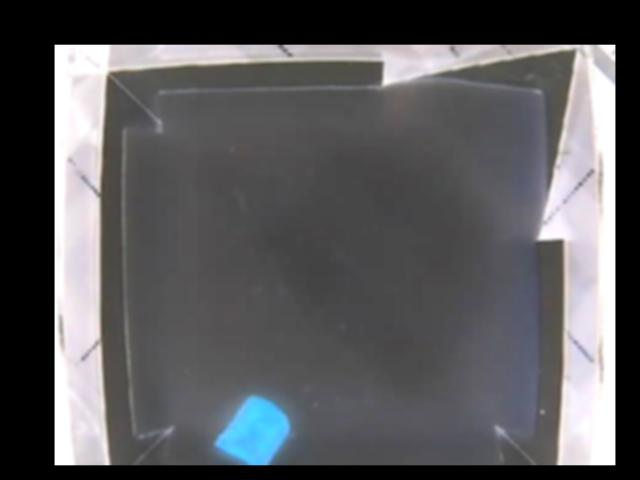Carrot: (212, 395, 291, 465)
